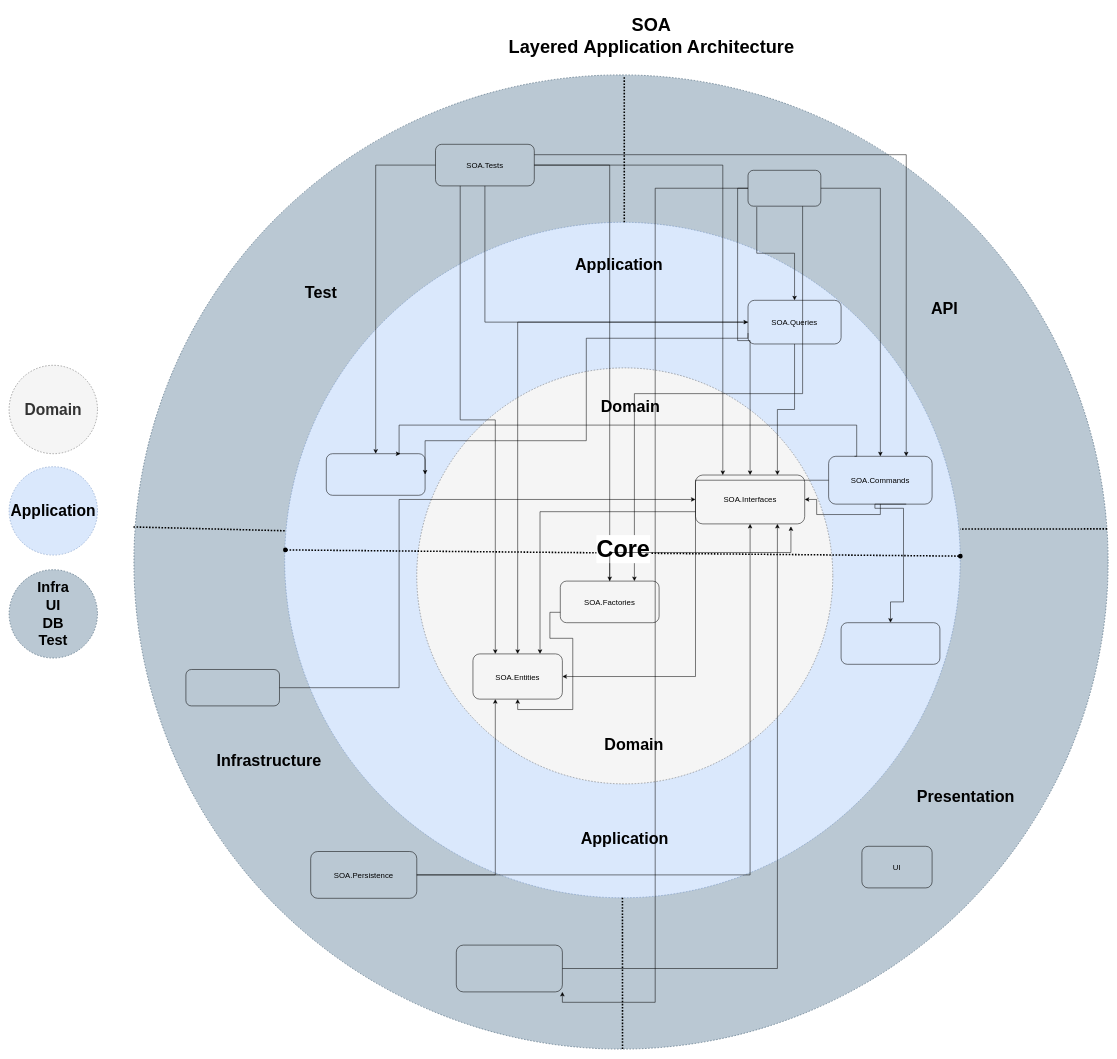
This 1117x1059 diagram has some shape labels left out. Each missing label, with the box of its shape:
SOA.API: (748, 170, 821, 206)
SOA.DomainEvents: (841, 622, 940, 664)
SOA.DTOs: (326, 453, 425, 495)
SOA.Infrastructura: (185, 669, 280, 706)
SOA.Security: (456, 945, 562, 992)
